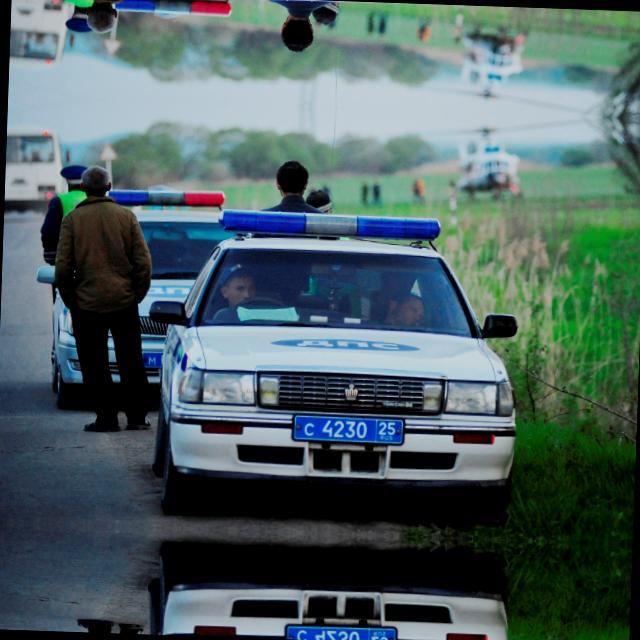police: (289, 408, 406, 452), (282, 615, 399, 640)
